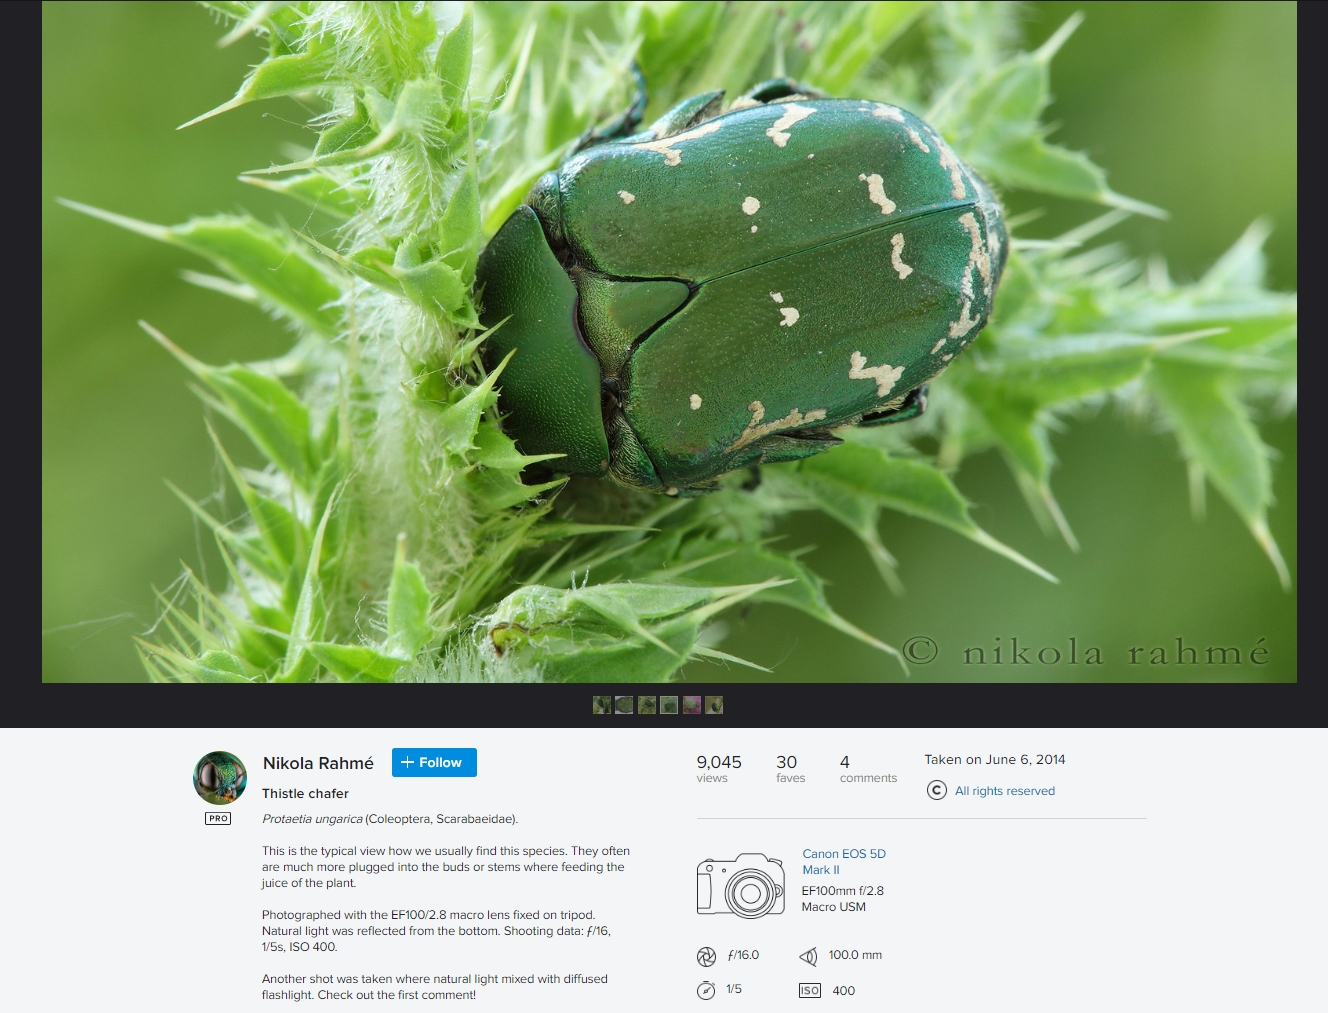Protaetia_ungarica: (434, 48, 1013, 503)
